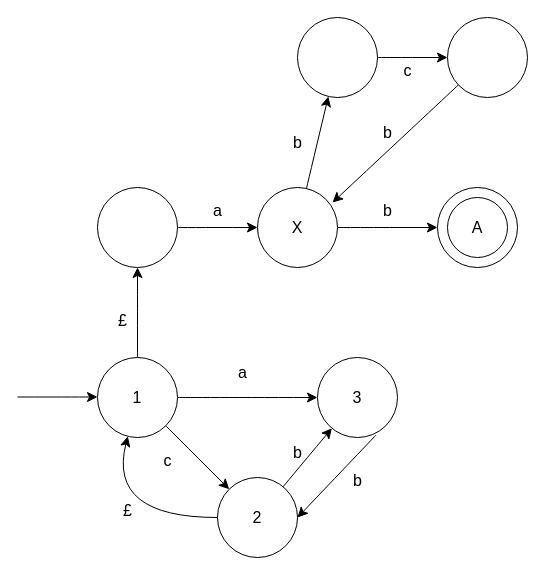
The diagram is 545 pixels wide and 575 high, and some of its shapes have lost their labels. The centre of each missing label's shape, as x and y in pixels:
"S2" goes at (x=137, y=227).
"X1" goes at (x=337, y=57).
"X2" goes at (x=487, y=57).
